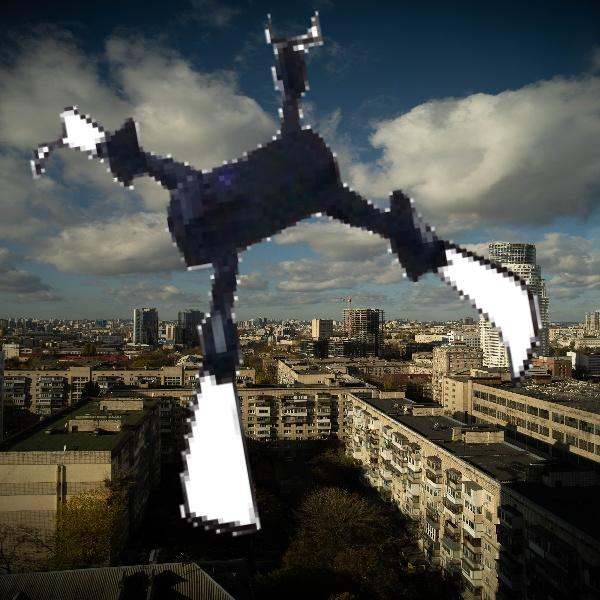drone: (36, 7, 564, 535)
